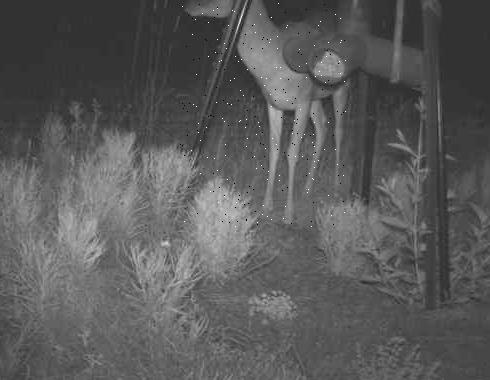Deer: (179, 0, 346, 227)
